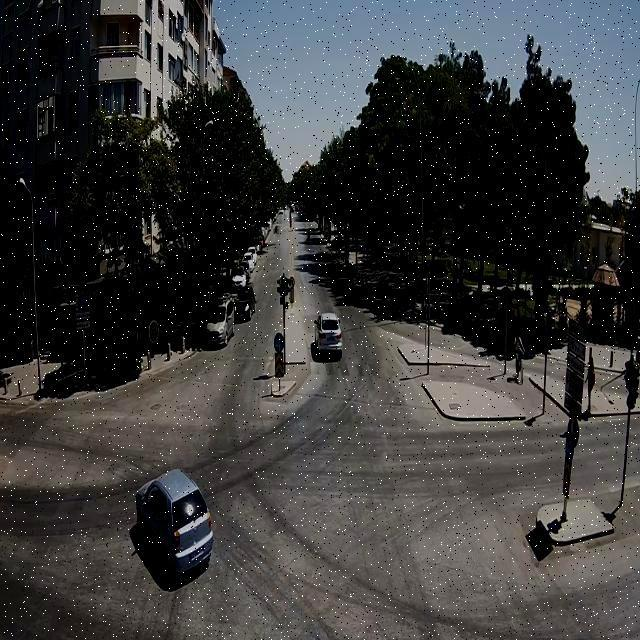Car: (135, 464, 212, 581), (205, 296, 235, 346), (315, 311, 343, 354), (234, 282, 254, 321)
